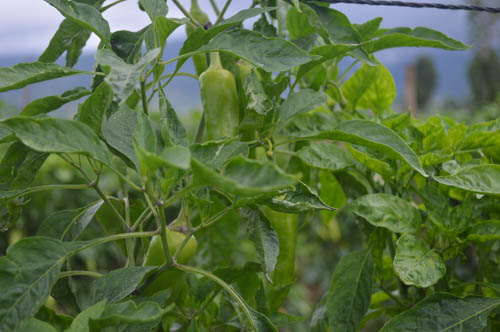ChiliPepper: (259, 197, 301, 312), (132, 231, 197, 297), (200, 71, 238, 160)
